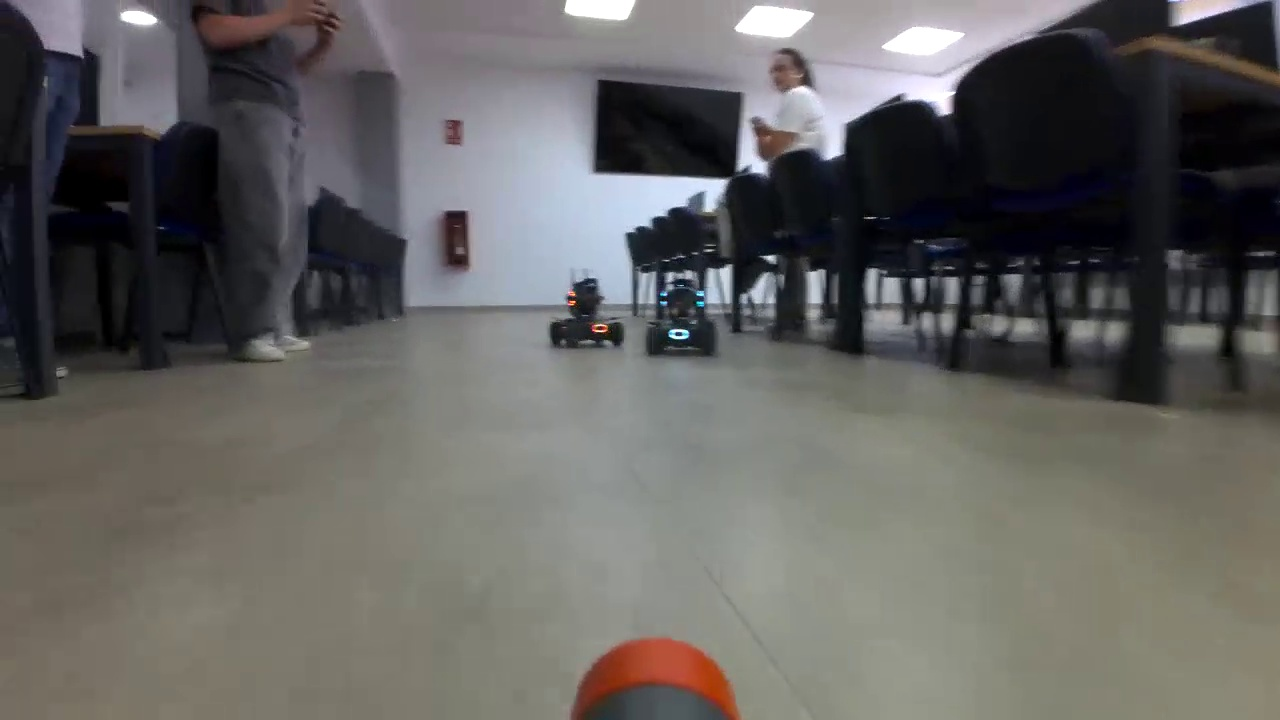robot: (646, 279, 717, 357), (549, 278, 626, 348)
